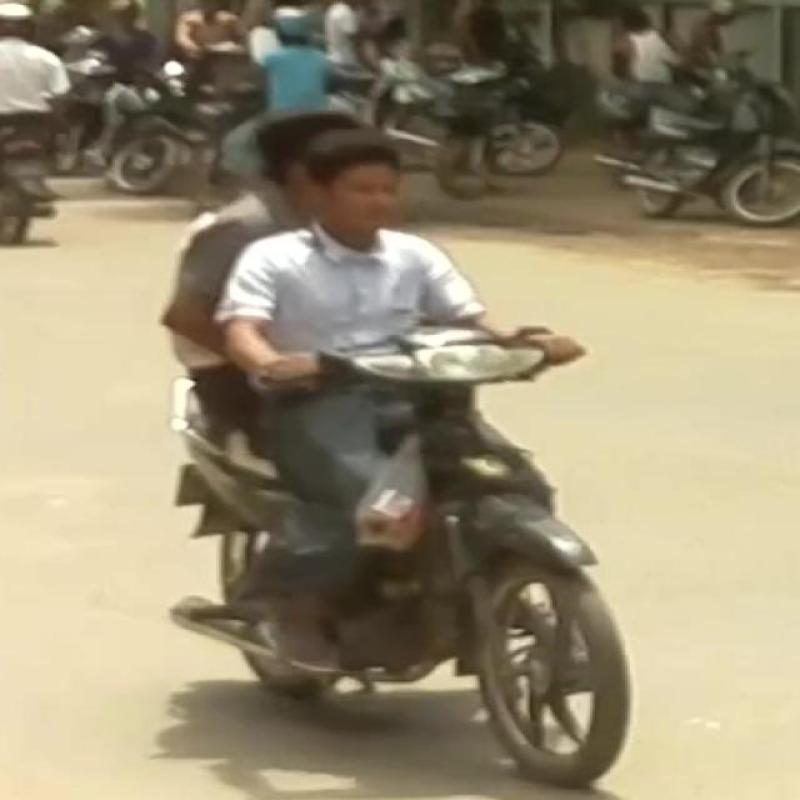nohelmet: (294, 120, 446, 241)
